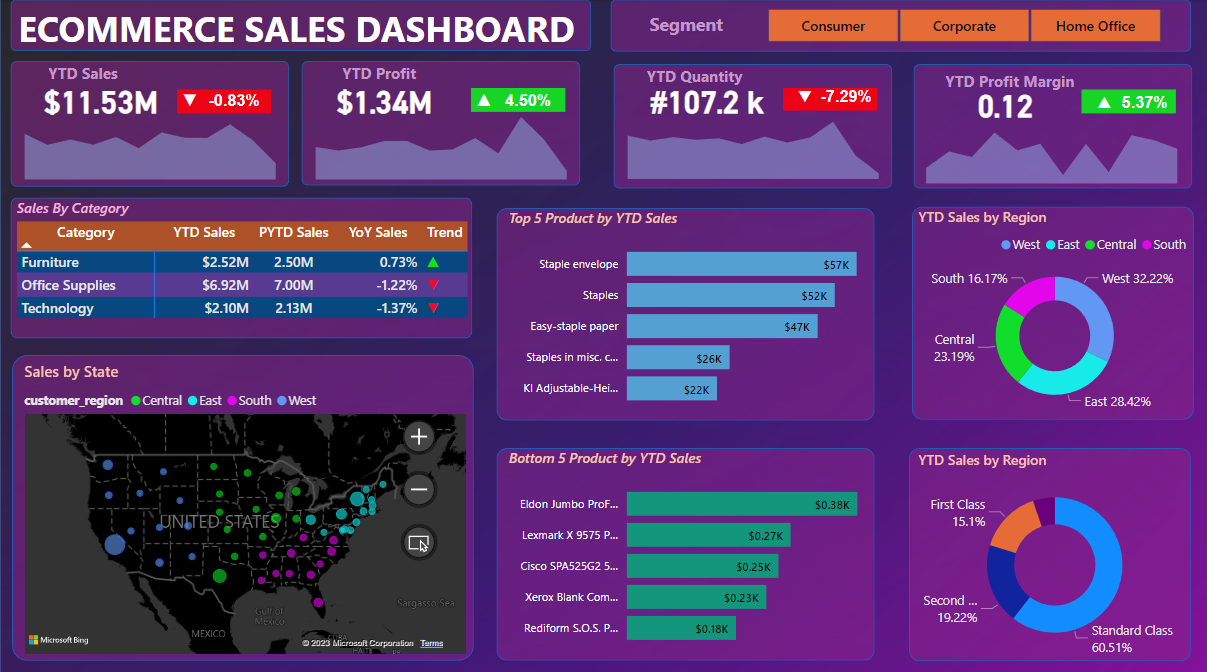

This screenshot's page, from the dashboard's own definition file:
{"tool":"powerbi","page":{"name":"Page 1","canvas":[1280,720],"ordinal":0},"visuals":[{"type":"shape","box":[11.6,2.3,615.1,54.7],"z":0},{"type":"textbox","box":[0,1.7,628.3,63.3],"z":1000},{"type":"shape","box":[11.1,66.8,295.6,133.5],"z":2000},{"type":"card","fields":{"Values":["ecommerce_data.YTD Sales"]},"box":[25.4,84.2,162.1,46.1],"z":3000},{"type":"areaChart","fields":{"Category":["Calender.Month"],"Y":["Sum(ecommerce_data.sales_per_order)"]},"box":[11.1,109.7,295.6,87.4],"z":4000},{"type":"shape","box":[187.5,97,100.1,25.4],"z":5000},{"type":"card","fields":{"Values":["ecommerce_data.YoY Sales"]},"box":[208.2,95.4,79.5,25.4],"z":6000},{"type":"card","fields":{"Values":["ecommerce_data.Sales Icon"]},"box":[187.5,95.4,27,25.4],"z":7000},{"type":"textbox","box":[46.1,63.6,98.5,39.7],"z":8000},{"type":"shape","box":[319.5,66.8,295.6,131.9],"z":9000},{"type":"card","fields":{"Values":["ecommerce_data.YTD Profit"]},"box":[325.8,84.2,162.1,46.1],"z":10000},{"type":"areaChart","fields":{"Category":["Calender.Month"],"Y":["Sum(ecommerce_data.profit_per_order)"]},"box":[319.5,109.7,295.6,87.4],"z":11000},{"type":"shape","box":[499.1,95.4,100.1,25.4],"z":12000},{"type":"card","fields":{"Values":["ecommerce_data.YoY Profit"]},"box":[519.7,95.4,79.5,25.4],"z":13000},{"type":"card","fields":{"Values":["ecommerce_data.Profit Icon"]},"box":[499.1,95.4,27,25.4],"z":14000},{"type":"textbox","box":[357.6,63.6,98.5,39.7],"z":15000},{"type":"shape","box":[650.1,69.9,295.6,131.9],"z":16000},{"type":"card","fields":{"Values":["ecommerce_data.YTD Conacatenated Qty"]},"box":[667.5,84.2,162.1,46.1],"z":17000},{"type":"areaChart","fields":{"Category":["Calender.Month"],"Y":["Sum(ecommerce_data.order_quantity)"]},"box":[650.1,114.4,295.6,82.6],"z":18000},{"type":"shape","box":[829.7,95.4,100.1,23.8],"z":19000},{"type":"card","fields":{"Values":["ecommerce_data.YoY Qty"]},"box":[856.7,90.6,79.5,25.4],"z":20000},{"type":"textbox","box":[680.3,66.8,216.2,36.6],"z":21000},{"type":"card","fields":{"Values":["ecommerce_data.Qty Icon"]},"box":[824.9,85.8,55.6,39.7],"z":22000},{"type":"shape","box":[967.9,69.9,295.6,131.9],"z":23000},{"type":"card","fields":{"Values":["ecommerce_data.YTD Profit Margin"]},"box":[983.8,88.9,162.1,46.1],"z":24000},{"type":"areaChart","fields":{"Category":["Calender.Month"],"Y":["ecommerce_data.Profit Margin"]},"box":[966.3,119.1,295.6,82.6],"z":25000},{"type":"shape","box":[1146,97,100.1,25.4],"z":26000},{"type":"card","fields":{"Values":["ecommerce_data.YoY Profit Margin"]},"box":[1173,97,79.5,25.4],"z":27000},{"type":"textbox","box":[996.5,71.5,216.2,36.6],"z":28000},{"type":"card","fields":{"Values":["ecommerce_data.Profit Margin Icon"]},"box":[1142.8,92.2,54,39.7],"z":29000},{"type":"shape","box":[11.1,211.4,489.5,149.4],"z":30000},{"type":"pivotTable","title":"Sales By Category","fields":{"Rows":["ecommerce_data.category_name"],"Values":["ecommerce_data.YTD Sales","ecommerce_data.PYTD Sales","ecommerce_data.YoY Sales","ecommerce_data.Sales Icon"]},"box":[12.7,211.4,500.7,149.4],"z":31000},{"type":"shape","box":[12.7,378.3,489.5,324.2],"z":32000},{"type":"shape","box":[526.1,222.5,400.5,225],"z":33000},{"type":"shape","box":[526.1,476.8,400.5,225],"z":34000},{"type":"barChart","title":"Top 5 Product by YTD Sales ","fields":{"Category":["ecommerce_data.product_name"],"Y":["ecommerce_data.YTD Sales"]},"box":[534.8,223,391.2,223],"z":35000},{"type":"barChart","title":"Bottom 5 Product by YTD Sales ","fields":{"Category":["ecommerce_data.product_name"],"Y":["ecommerce_data.YTD Sales"]},"box":[534,476.8,392.6,222.5],"z":36000},{"type":"shape","box":[966.4,220.9,298.8,225.7],"z":37000},{"type":"shape","box":[963.2,476.8,298.8,225.7],"z":38000},{"type":"donutChart","title":"YTD Sales by Region","fields":{"Category":["ecommerce_data.customer_region"],"Y":["ecommerce_data.YTD Sales"]},"box":[967.9,220.9,298.8,224.1],"z":39000},{"type":"donutChart","title":"YTD Sales by Region","fields":{"Category":["ecommerce_data.shipping_type"],"Y":["ecommerce_data.YTD Sales"]},"box":[967.9,478.4,298.8,224.1],"z":40000},{"type":"map","title":" Sales by State","fields":{"X":["us_state_long_lat_codes.longitude"],"Y":["us_state_long_lat_codes.latitude"],"Size":["ecommerce_data.YTD Sales"],"Series":["ecommerce_data.customer_region"]},"box":[20,385,478.3,315],"z":41000},{"type":"shape","box":[646.7,1.7,615,55],"z":42000},{"type":"slicer","fields":{"Values":["ecommerce_data.customer_segment"]},"box":[788.3,5,465,48.3],"z":43000},{"type":"textbox","box":[678.3,10,110,40],"z":44000}]}

Visuals, with their boxes in screenshot pixels (x1, y1, x2, y2), scaled from the page's 1280x720 canvas onto the 1207x672 screenshot:
shape: detection(11, 2, 591, 53)
textbox: detection(0, 2, 592, 61)
shape: detection(10, 62, 289, 187)
card - ecommerce_data.YTD Sales: detection(24, 79, 177, 122)
areaChart - Calender.Month x Sum(ecommerce_data.sales_per_order): detection(10, 102, 289, 184)
shape: detection(177, 91, 271, 114)
card - ecommerce_data.YoY Sales: detection(196, 89, 271, 113)
card - ecommerce_data.Sales Icon: detection(177, 89, 202, 113)
textbox: detection(43, 59, 136, 96)
shape: detection(301, 62, 580, 185)
card - ecommerce_data.YTD Profit: detection(307, 79, 460, 122)
areaChart - Calender.Month x Sum(ecommerce_data.profit_per_order): detection(301, 102, 580, 184)
shape: detection(471, 89, 565, 113)
card - ecommerce_data.YoY Profit: detection(490, 89, 565, 113)
card - ecommerce_data.Profit Icon: detection(471, 89, 496, 113)
textbox: detection(337, 59, 430, 96)
shape: detection(613, 65, 892, 188)
card - ecommerce_data.YTD Conacatenated Qty: detection(629, 79, 782, 122)
areaChart - Calender.Month x Sum(ecommerce_data.order_quantity): detection(613, 107, 892, 184)
shape: detection(782, 89, 877, 111)
card - ecommerce_data.YoY Qty: detection(808, 85, 883, 108)
textbox: detection(642, 62, 845, 97)
card - ecommerce_data.Qty Icon: detection(778, 80, 830, 117)
shape: detection(913, 65, 1191, 188)
card - ecommerce_data.YTD Profit Margin: detection(928, 83, 1081, 126)
areaChart - Calender.Month x ecommerce_data.Profit Margin: detection(911, 111, 1190, 188)
shape: detection(1081, 91, 1175, 114)
card - ecommerce_data.YoY Profit Margin: detection(1106, 91, 1181, 114)
textbox: detection(940, 67, 1144, 101)
card - ecommerce_data.Profit Margin Icon: detection(1078, 86, 1129, 123)
shape: detection(10, 197, 472, 337)
"Sales By Category" pivotTable: detection(12, 197, 484, 337)
shape: detection(12, 353, 474, 656)
shape: detection(496, 208, 874, 418)
shape: detection(496, 445, 874, 655)
"Top 5 Product by YTD Sales " barChart: detection(504, 208, 873, 416)
"Bottom 5 Product by YTD Sales " barChart: detection(504, 445, 874, 653)
shape: detection(911, 206, 1193, 417)
shape: detection(908, 445, 1190, 656)
"YTD Sales by Region" donutChart: detection(913, 206, 1194, 415)
"YTD Sales by Region" donutChart: detection(913, 447, 1194, 656)
" Sales by State" map: detection(19, 359, 470, 653)
shape: detection(610, 2, 1190, 53)
slicer - ecommerce_data.customer_segment: detection(743, 5, 1182, 50)
textbox: detection(640, 9, 743, 47)
